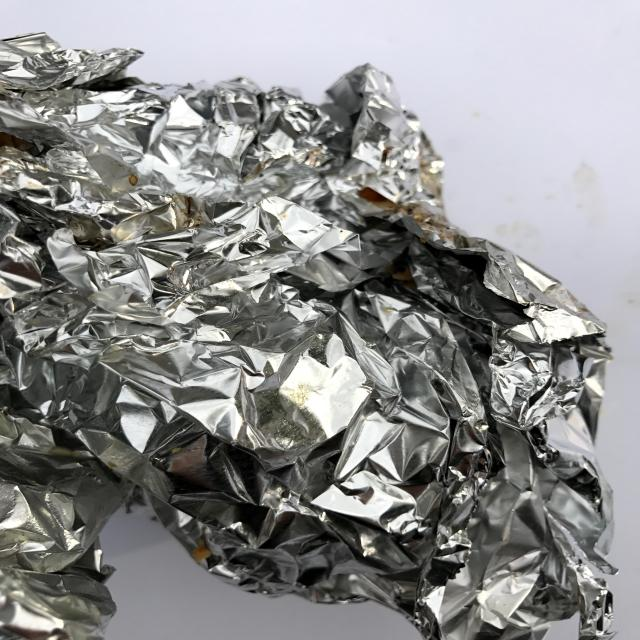metal: (2, 31, 620, 638)
